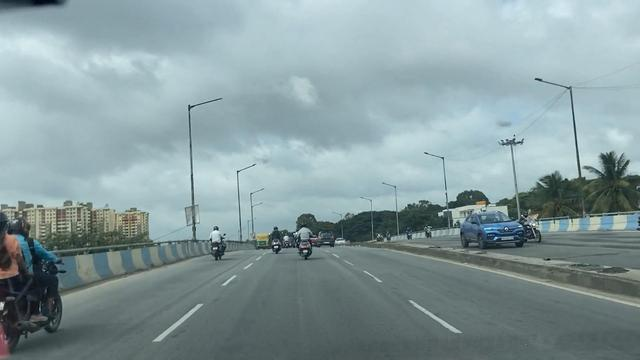LMV: (294, 224, 313, 258), (209, 225, 227, 259), (270, 226, 282, 255), (317, 233, 335, 247)
